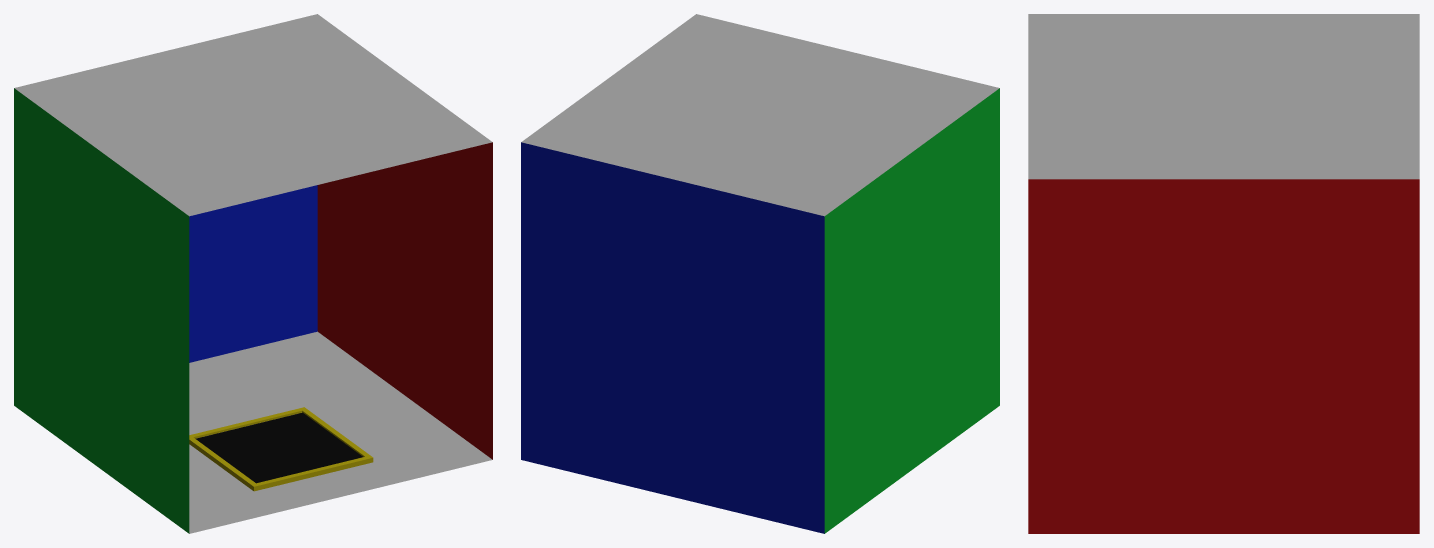
The model's file is tudosm.obj.
The picture shows the model from 3 angles, left to right: view 1: azimuth 30°, elevation 25°; view 2: azimuth 150°, elevation 25°; view 3: azimuth 270°, elevation 25°; orthographic projection. The views are drawn at different scales.
Parts seen in each view (by area): view 1: right_wall_Plane.002_wall3_right_wall_right_wall_Plane.002_wall, floor_Plane_Floor_floor_floor_Plane_Floor_floor_floor, left_wall_Plane.001_wall1_left_wall_left_wall_Plane.001_wall1_l, teto_Plane.006_Teto_teto_teto_Plane.006_Teto_teto_teto, back_wall_Plane.003_wall2_back_wall.001_back_wall_Plane.003_wal, light_Plane.004_Plane_ligth_light_Plane.004_Plane_ligth_ligth, None_Cube.001_Material.001; view 2: back_wall_Plane.003_wall2_back_wall.001_back_wall_Plane.003_wal, right_wall_Plane.002_wall3_right_wall_right_wall_Plane.002_wall, floor_Plane_Floor_floor_floor_Plane_Floor_floor_floor; view 3: left_wall_Plane.001_wall1_left_wall_left_wall_Plane.001_wall1_l, floor_Plane_Floor_floor_floor_Plane_Floor_floor_floor.
Part boxes in pixels (x1=…): right_wall_Plane.002_wall3_right_wall_right_wall_Plane.002_wall: x1=14, y1=88, x2=189, y2=533; floor_Plane_Floor_floor_floor_Plane_Floor_floor_floor: x1=14, y1=14, x2=492, y2=216; left_wall_Plane.001_wall1_left_wall_left_wall_Plane.001_wall1_l: x1=317, y1=142, x2=492, y2=459; teto_Plane.006_Teto_teto_teto_Plane.006_Teto_teto_teto: x1=189, y1=331, x2=492, y2=533; back_wall_Plane.003_wall2_back_wall.001_back_wall_Plane.003_wal: x1=189, y1=185, x2=317, y2=362; light_Plane.004_Plane_ligth_light_Plane.004_Plane_ligth_ligth: x1=195, y1=412, x2=362, y2=483; None_Cube.001_Material.001: x1=189, y1=407, x2=373, y2=491; back_wall_Plane.003_wall2_back_wall.001_back_wall_Plane.003_wal: x1=521, y1=142, x2=824, y2=533; right_wall_Plane.002_wall3_right_wall_right_wall_Plane.002_wall: x1=824, y1=88, x2=999, y2=533; floor_Plane_Floor_floor_floor_Plane_Floor_floor_floor: x1=521, y1=14, x2=999, y2=216; left_wall_Plane.001_wall1_left_wall_left_wall_Plane.001_wall1_l: x1=1028, y1=179, x2=1419, y2=533; floor_Plane_Floor_floor_floor_Plane_Floor_floor_floor: x1=1028, y1=14, x2=1419, y2=179.
Bounding box in the file's own units: 2 × 2 × 2.
